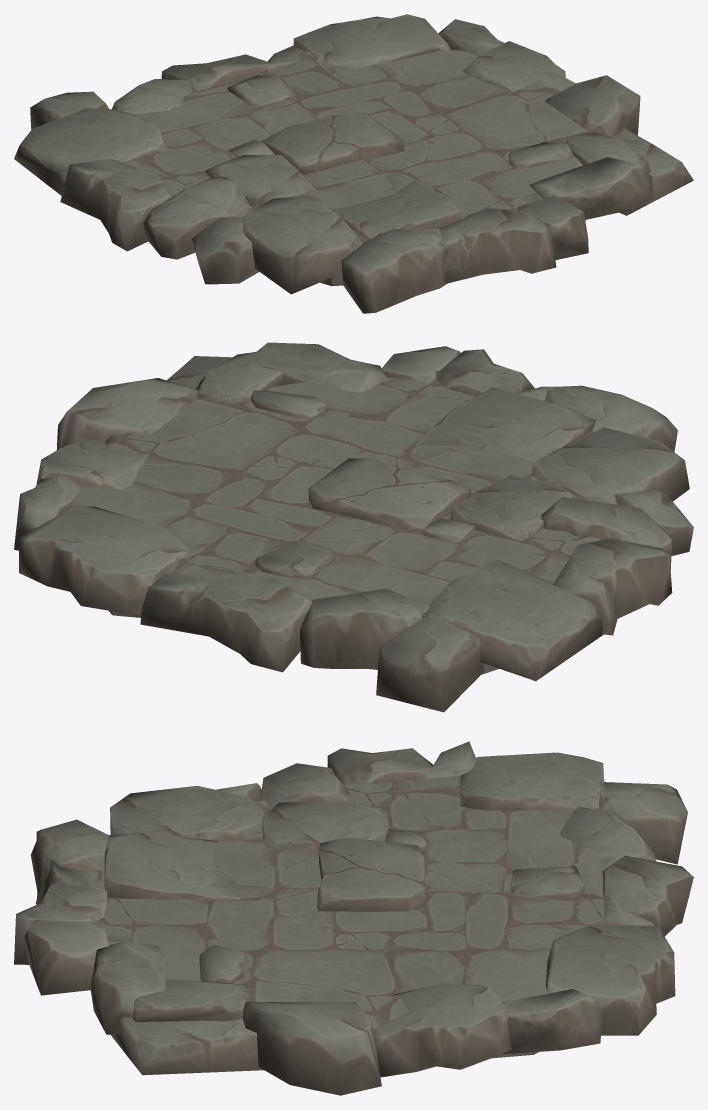
Rendered from SM_FW01_Ruins_Int_Floor_Chunk_01.fbx.
3 renders of one model, top to bottom at view 1: azimuth 30°, elevation 25°; view 2: azimuth 150°, elevation 25°; view 3: azimuth 270°, elevation 25°, orthographic. The views are drawn at different scales.
Parts seen in each view (by area): view 1: SM_FW01_Ruins_Int_Floor_Chunk_01_LOD0, SM_FW01_Ruins_Int_Floor_Chunk_01; view 2: SM_FW01_Ruins_Int_Floor_Chunk_01_LOD0, SM_FW01_Ruins_Int_Floor_Chunk_01; view 3: SM_FW01_Ruins_Int_Floor_Chunk_01_LOD0, SM_FW01_Ruins_Int_Floor_Chunk_01.
Part boxes in pixels (<box>): SM_FW01_Ruins_Int_Floor_Chunk_01_LOD0: <box>14,14,693,313</box>; SM_FW01_Ruins_Int_Floor_Chunk_01: <box>122,49,590,286</box>; SM_FW01_Ruins_Int_Floor_Chunk_01_LOD0: <box>14,342,693,712</box>; SM_FW01_Ruins_Int_Floor_Chunk_01: <box>69,378,610,674</box>; SM_FW01_Ruins_Int_Floor_Chunk_01_LOD0: <box>14,741,693,1095</box>; SM_FW01_Ruins_Int_Floor_Chunk_01: <box>94,775,625,1058</box>.
Size of what is drawn, in the model's own units: 3.02 by 0.3261 by 2.84.
